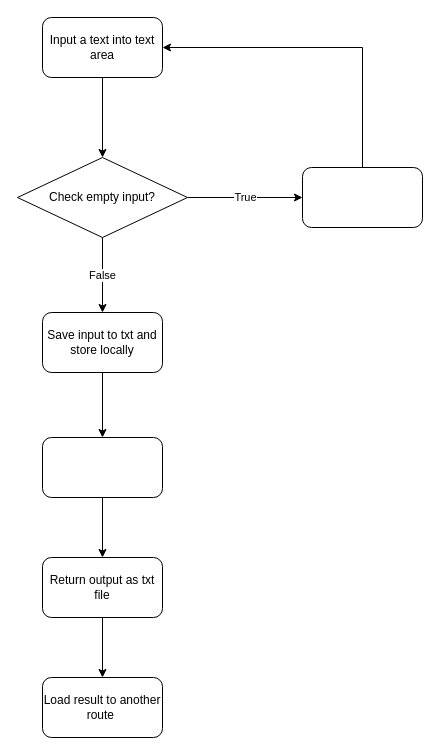
Some shapes in this 440 by 755 pixel diagram are drawn without their labels. Here are the shapes that lost their labels. From the top down, the centre of each, then its label:
At (362,197): "Raise error".
At (102,467): "DL model to process".
